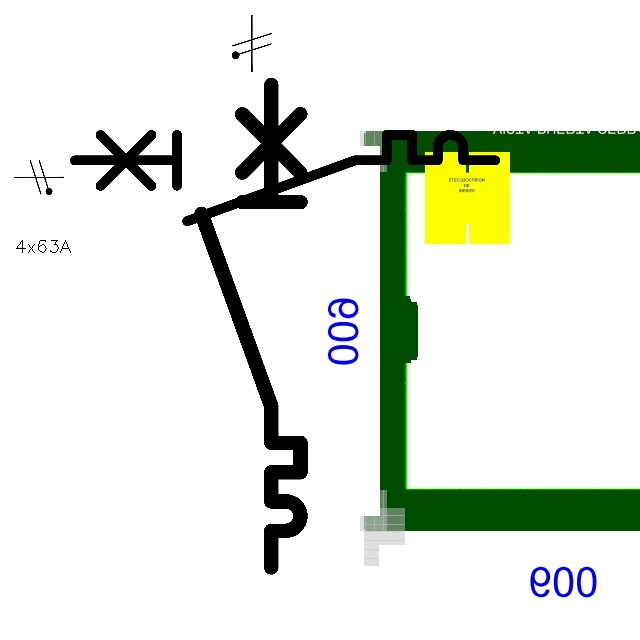interruptor_termomagnetico: (189, 72, 313, 580), (64, 124, 506, 232)
